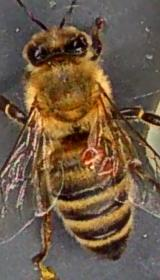varroa_mite: (79, 143, 110, 164)
